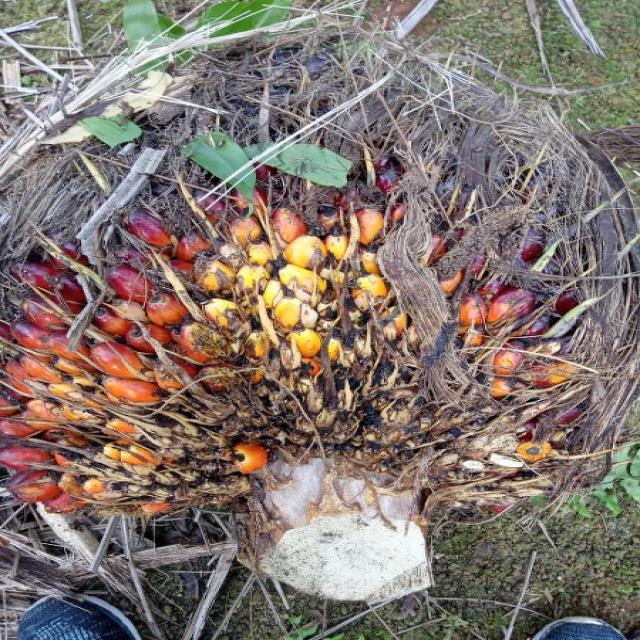fraksi 1: (0, 20, 640, 570)
